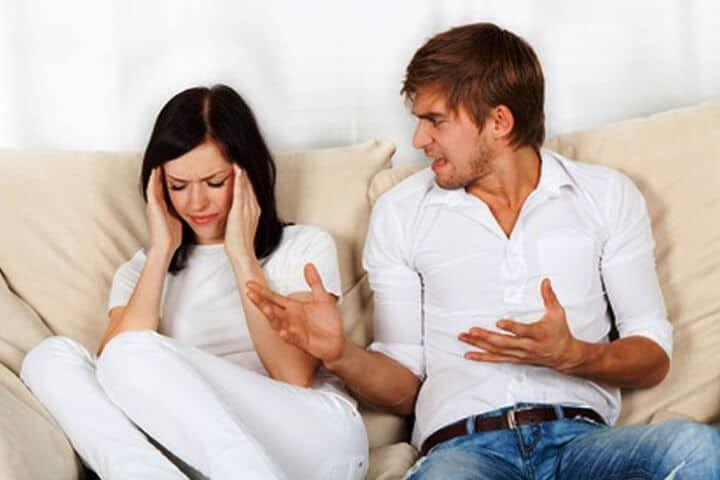raiva: (396, 18, 558, 206)
triste: (127, 74, 285, 251)
